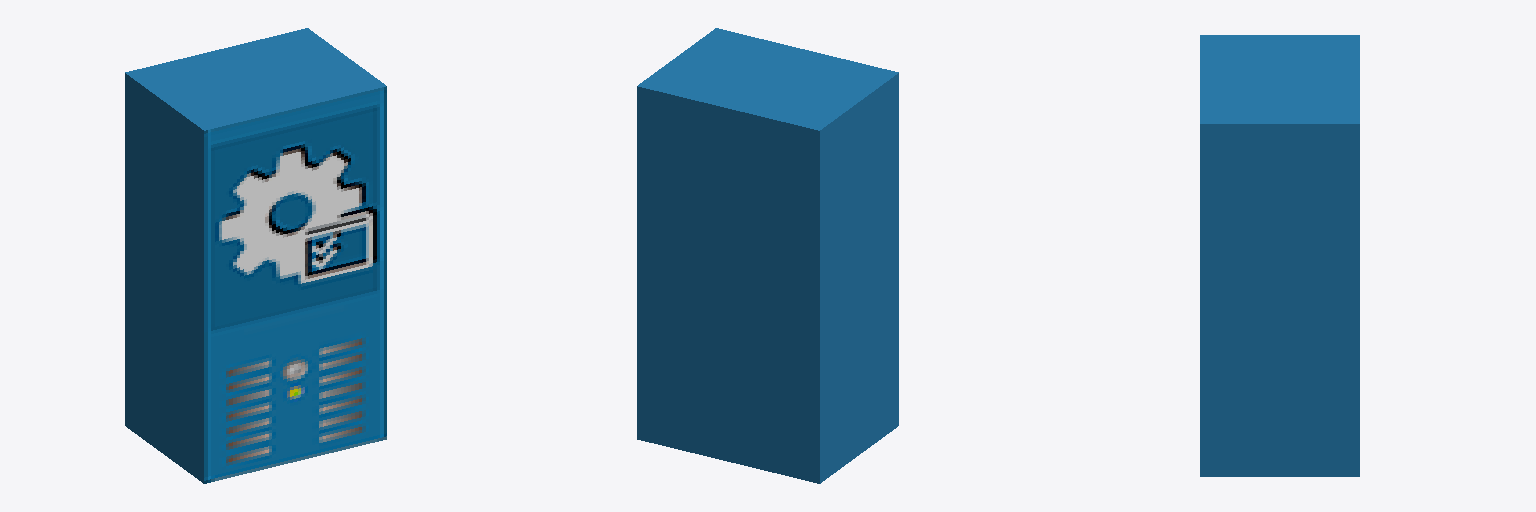
The picture shows the model from 3 angles: view 1: azimuth 30°, elevation 25°; view 2: azimuth 150°, elevation 25°; view 3: azimuth 270°, elevation 25°; orthographic projection.
Parts seen in each view (by area): view 1: 服务器.2; view 2: 服务器.2; view 3: 服务器.2.
Boxes of the visible parts, <box> form: 服务器.2: <box>125,28,386,483</box>; 服务器.2: <box>637,28,898,483</box>; 服务器.2: <box>1200,35,1359,476</box>.
Size of the model in its own units: 5.26 by 9.7 by 3.96.
2 materials, 1 textured.